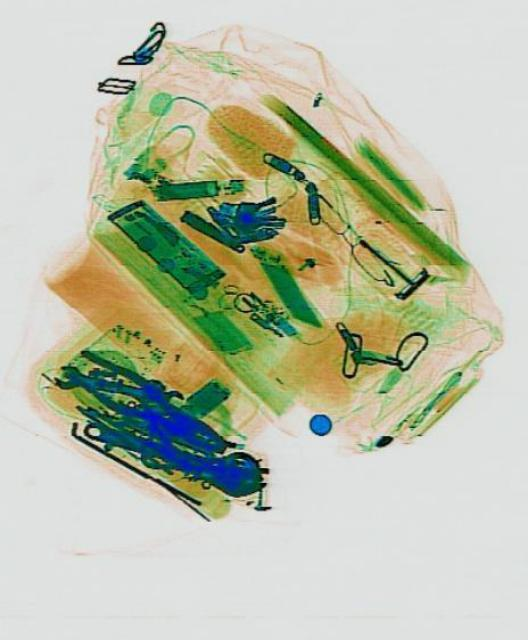Pliers: (58, 337, 233, 469)
Wrench: (77, 405, 268, 503), (51, 358, 162, 404)
